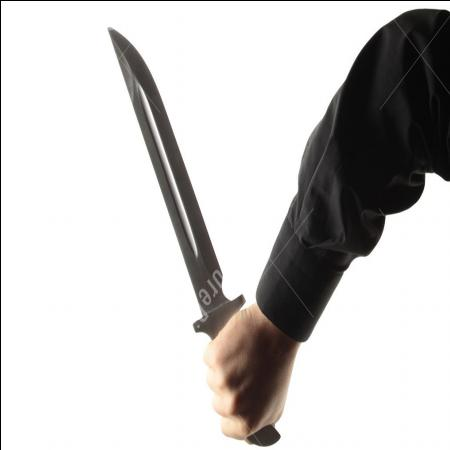long weapon: (95, 13, 253, 418)
